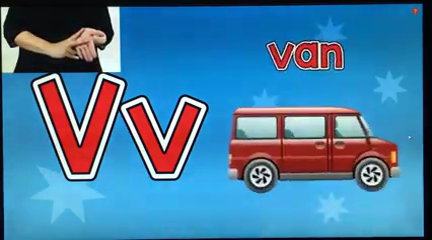V: (42, 21, 112, 66)
